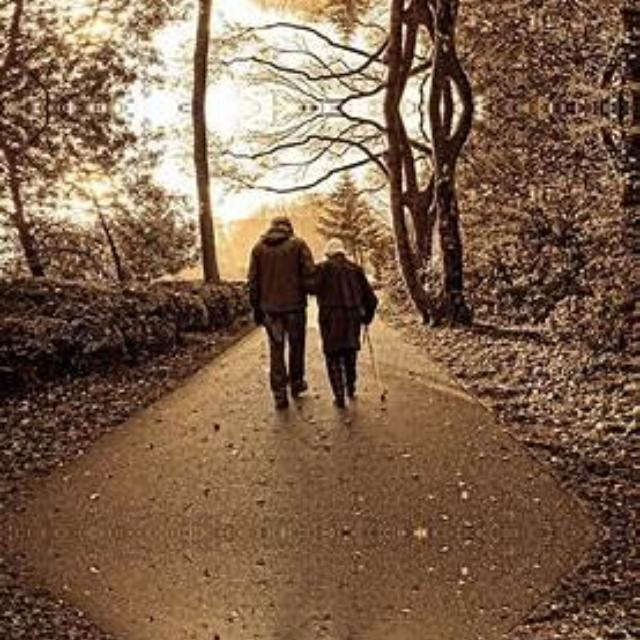person: (308, 238, 392, 428), (251, 210, 309, 438), (251, 625, 309, 640), (308, 637, 392, 640), (251, 0, 309, 4)
